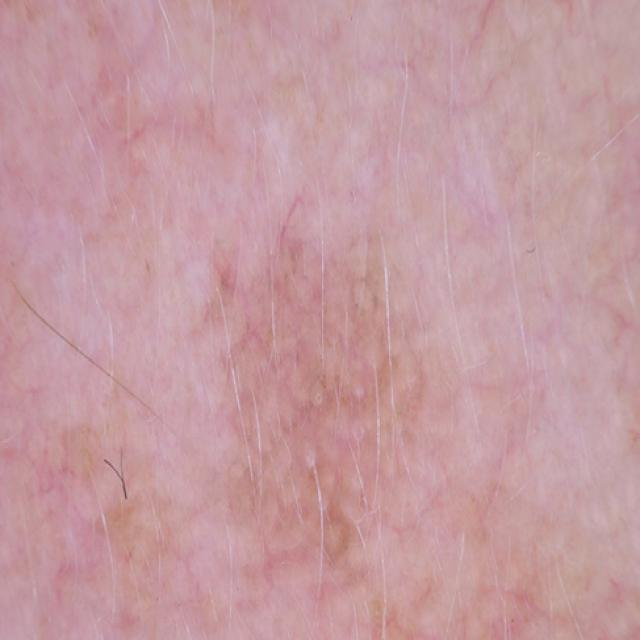Keratosis: (189, 173, 603, 640)
